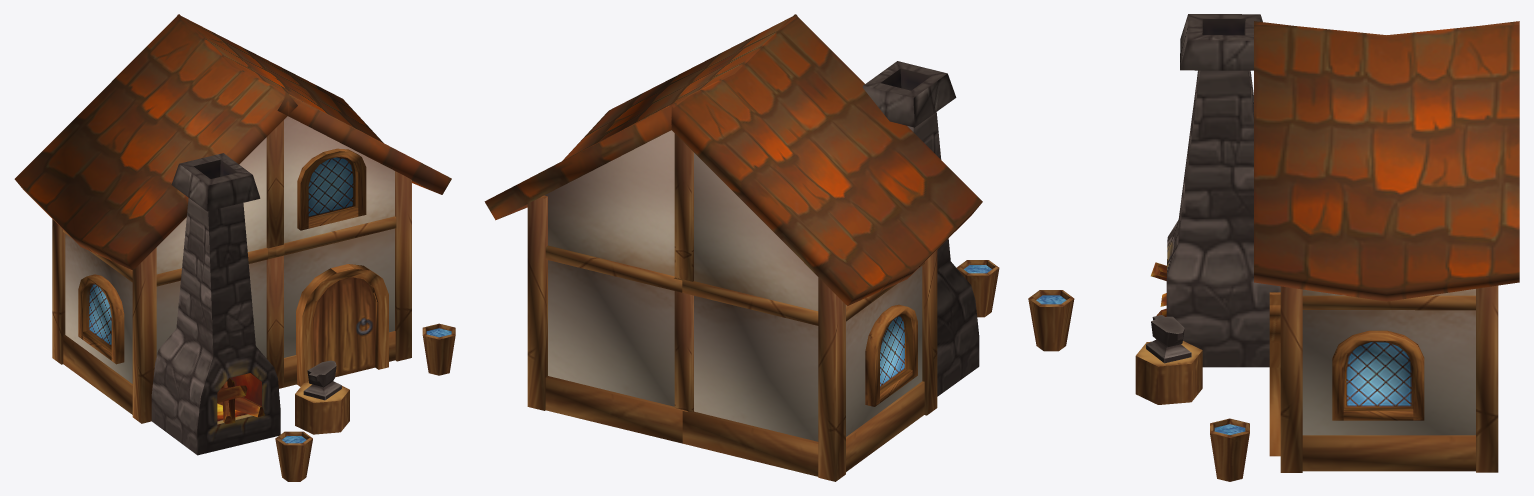
File: building_4_1.FBX
The picture shows the model from 3 angles, left to right: view 1: azimuth 30°, elevation 25°; view 2: azimuth 150°, elevation 25°; view 3: azimuth 270°, elevation 25°; orthographic projection. The views are drawn at different scales.
Parts seen in each view (by area): view 1: building_4_1; view 2: building_4_1; view 3: building_4_1.
Part boxes in pixels (x1,y1,x2,y2): building_4_1: [14, 14, 455, 481]; building_4_1: [484, 14, 999, 481]; building_4_1: [1028, 14, 1519, 481].
Bounding box in the file's own units: 265 × 235 × 282.
